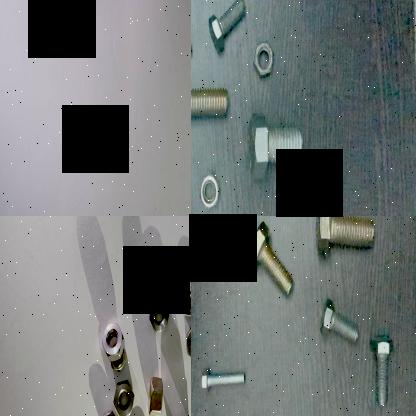Bolts: (241, 216, 297, 305), (244, 114, 310, 188), (315, 293, 360, 352), (191, 69, 230, 137), (366, 332, 400, 408), (316, 216, 380, 255), (207, 0, 251, 55), (196, 352, 252, 395)
NUTS: (196, 169, 226, 213), (252, 33, 280, 79), (99, 318, 125, 362), (148, 292, 172, 336), (111, 378, 135, 416), (146, 371, 166, 416), (107, 344, 132, 374), (177, 288, 191, 316), (184, 320, 191, 366), (102, 409, 120, 416)
